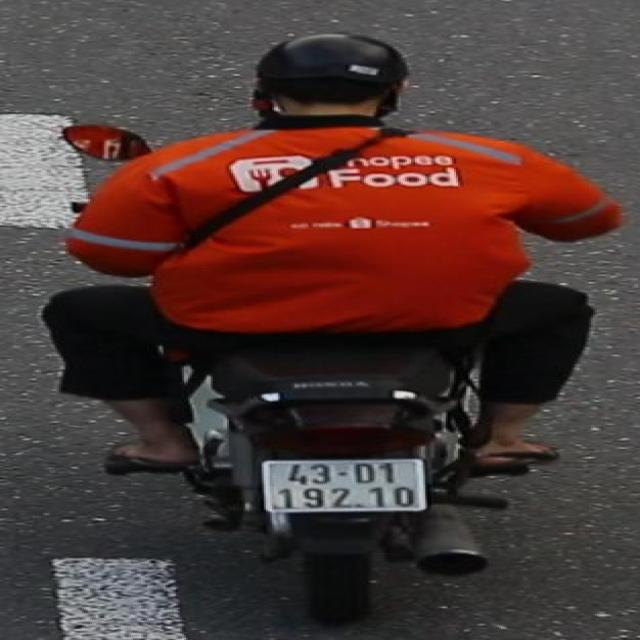LP: (256, 453, 436, 518)
helmet: (238, 28, 418, 140)
